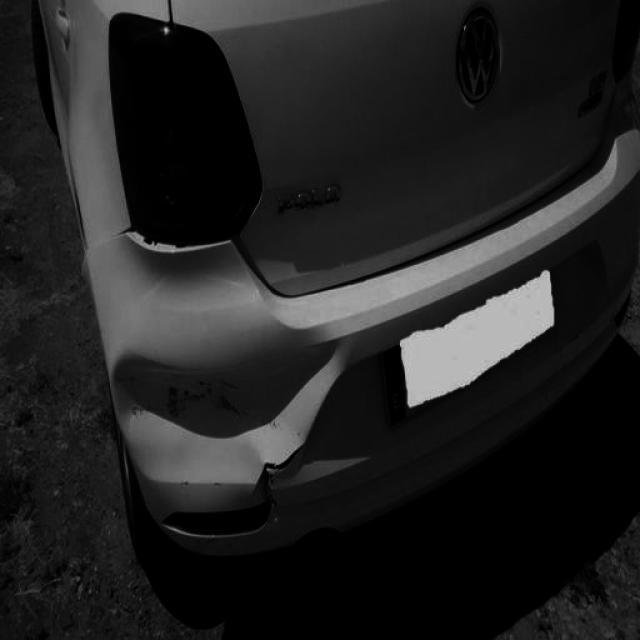car damage: (114, 339, 351, 539), (110, 221, 249, 269)
